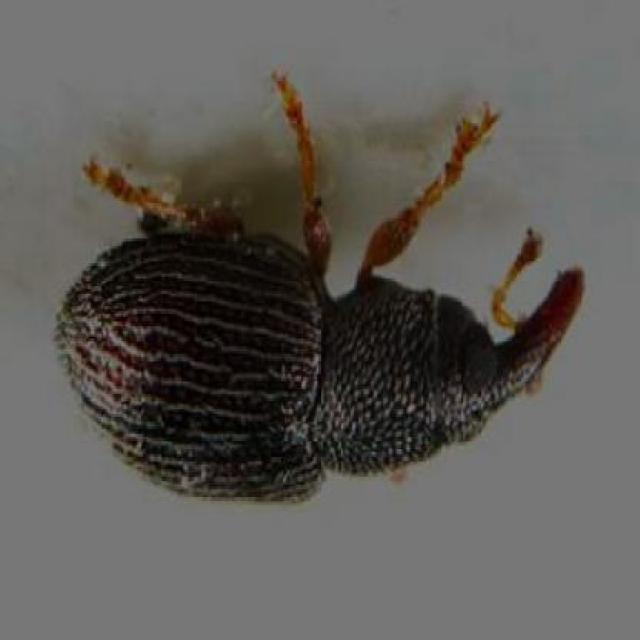rice-bug: (50, 155, 588, 507)
